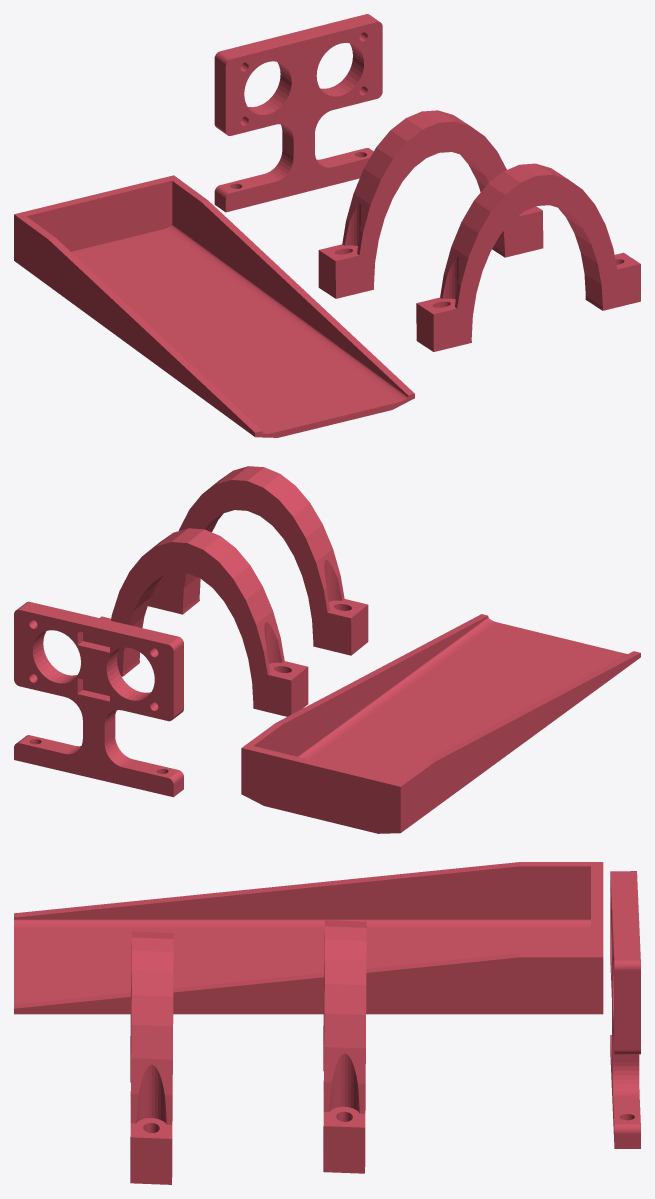
File: Daring Maimu (1).glb
3 views of the same model, one above another, from view 1: azimuth 30°, elevation 25°; view 2: azimuth 150°, elevation 25°; view 3: azimuth 270°, elevation 25° (orthographic). The views are drawn at different scales.
Parts seen in each view (by area): view 1: Mesh_Mesh_head_geo.001_lambert2SG.001; view 2: Mesh_Mesh_head_geo.001_lambert2SG.001; view 3: Mesh_Mesh_head_geo.001_lambert2SG.001.
Boxes of the visible parts, x1=… form: Mesh_Mesh_head_geo.001_lambert2SG.001: x1=14, y1=14, x2=640, y2=437; Mesh_Mesh_head_geo.001_lambert2SG.001: x1=14, y1=466, x2=640, y2=833; Mesh_Mesh_head_geo.001_lambert2SG.001: x1=14, y1=862, x2=640, y2=1184.
Bounding box in the file's own units: 146 × 49.02 × 150.
